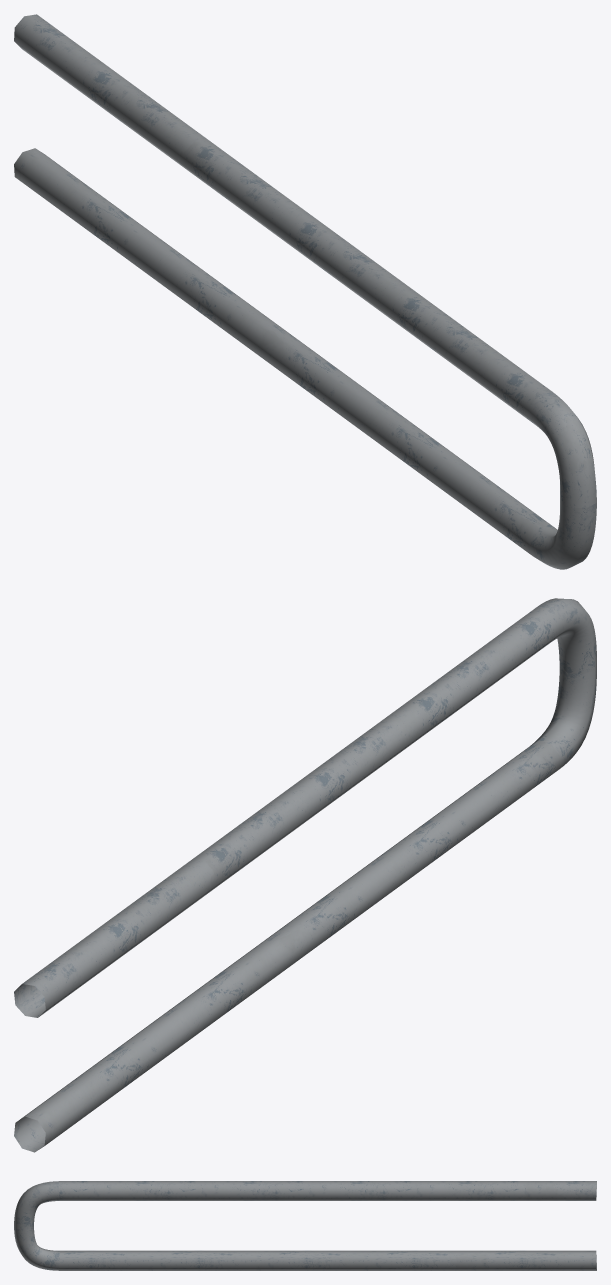
The model's file is long_pipe2.fbx.
3 views of the same model, one above another, from view 1: azimuth 30°, elevation 25°; view 2: azimuth 150°, elevation 25°; view 3: azimuth 270°, elevation 25° (orthographic). The views are drawn at different scales.
Parts seen in each view (by area): view 1: BarHorizontal4 (×2), CornerR3 (×2); view 2: BarHorizontal4 (×2), CornerR3 (×2); view 3: BarHorizontal4 (×2), CornerR3 (×2).
Part boxes in pixels (<box>): BarHorizontal4 (×2): <box>14,14,555,553</box>; CornerR3 (×2): <box>529,392,596,569</box>; BarHorizontal4 (×2): <box>14,606,560,1152</box>; CornerR3 (×2): <box>530,598,596,768</box>; BarHorizontal4 (×2): <box>58,1181,596,1270</box>; CornerR3 (×2): <box>14,1181,59,1270</box>.
Size of the model in its own units: 8.96 by 42.96 by 261.
Materials: 1 (1 with a texture image).
